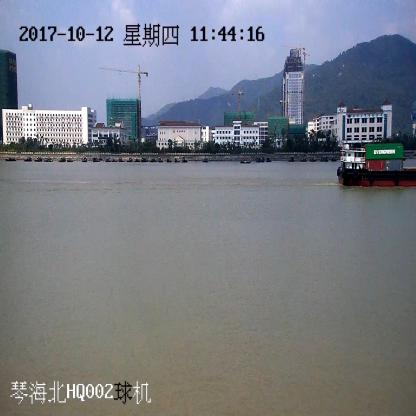Container Ship: (338, 146, 416, 186)
